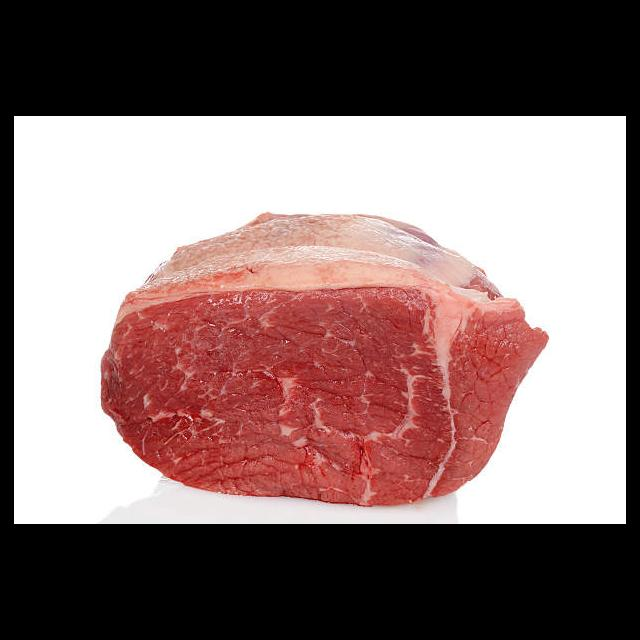beef: (99, 210, 549, 507)
